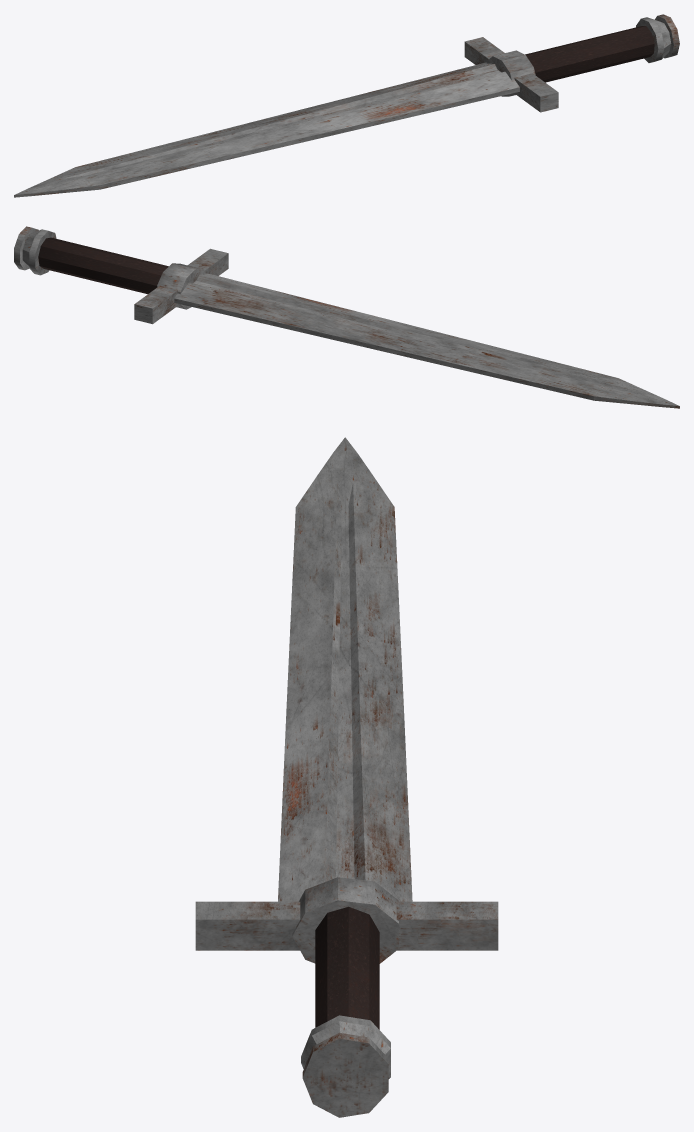
File: Sword.fbx
3 renders of one model, top to bottom at view 1: azimuth 30°, elevation 25°; view 2: azimuth 150°, elevation 25°; view 3: azimuth 270°, elevation 25°, orthographic. The views are drawn at different scales.
Parts seen in each view (by area): view 1: Sword_Baked; view 2: Sword_Baked; view 3: Sword_Baked.
Boxes of the visible parts, bbox=[...] form: Sword_Baked: bbox=[14, 14, 679, 197]; Sword_Baked: bbox=[14, 226, 679, 408]; Sword_Baked: bbox=[195, 437, 498, 1117].
Size of the model in its own units: 166 by 10.03 by 33.24.
Materials: 1 (1 with a texture image).
